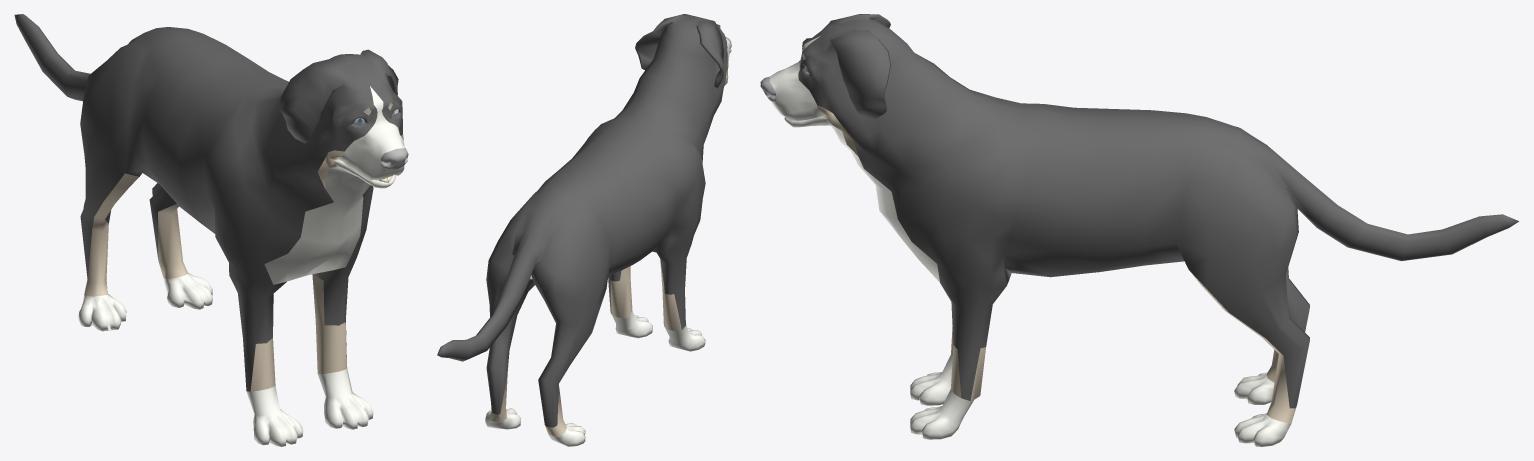
Rendered from dog.gltf.
3 renders of one model, left to right at view 1: azimuth 30°, elevation 25°; view 2: azimuth 150°, elevation 25°; view 3: azimuth 270°, elevation 25°, orthographic. The views are drawn at different scales.
Parts seen in each view (by area): view 1: SketchUp.007, SketchUp, SketchUp.005, SketchUp.003, SketchUp.002, SketchUp.011, SketchUp.008, SketchUp.012, SketchUp.004, SketchUp.006, SketchUp.010, SketchUp.016 (+1 smaller); view 2: SketchUp.007, SketchUp.008, SketchUp.003, SketchUp.002, SketchUp.010, SketchUp.004, SketchUp.006, SketchUp.011; view 3: SketchUp.007, SketchUp.005, SketchUp, SketchUp.003, SketchUp.006, SketchUp.012, SketchUp.002, SketchUp.004, SketchUp.008.
Boxes of the visible parts, <box> form: SketchUp.007: <box>14,14,402,391</box>; SketchUp: <box>264,160,395,284</box>; SketchUp.005: <box>336,86,405,180</box>; SketchUp.003: <box>318,368,373,429</box>; SketchUp.002: <box>246,386,303,446</box>; SketchUp.011: <box>84,173,138,296</box>; SketchUp.008: <box>312,274,347,373</box>; SketchUp.012: <box>158,204,187,278</box>; SketchUp.004: <box>78,294,126,331</box>; SketchUp.006: <box>163,273,213,309</box>; SketchUp.010: <box>250,338,275,391</box>; SketchUp.016: <box>380,148,408,170</box>; SketchUp.007: <box>437,14,727,427</box>; SketchUp.008: <box>610,266,632,318</box>; SketchUp.003: <box>611,310,652,338</box>; SketchUp.002: <box>664,323,705,351</box>; SketchUp.010: <box>660,260,681,331</box>; SketchUp.004: <box>549,423,585,446</box>; SketchUp.006: <box>485,408,520,429</box>; SketchUp.011: <box>545,384,566,437</box>; SketchUp.007: <box>798,14,1518,408</box>; SketchUp.005: <box>770,36,825,120</box>; SketchUp: <box>784,117,939,282</box>; SketchUp.003: <box>910,389,973,439</box>; SketchUp.006: <box>1234,413,1290,446</box>; SketchUp.012: <box>1190,271,1296,423</box>; SketchUp.002: <box>910,355,952,405</box>; SketchUp.004: <box>1234,372,1274,404</box>; SketchUp.008: <box>951,345,985,400</box>.
Bounding box in the file's own units: 0.2958 × 0.7923 × 1.38.
